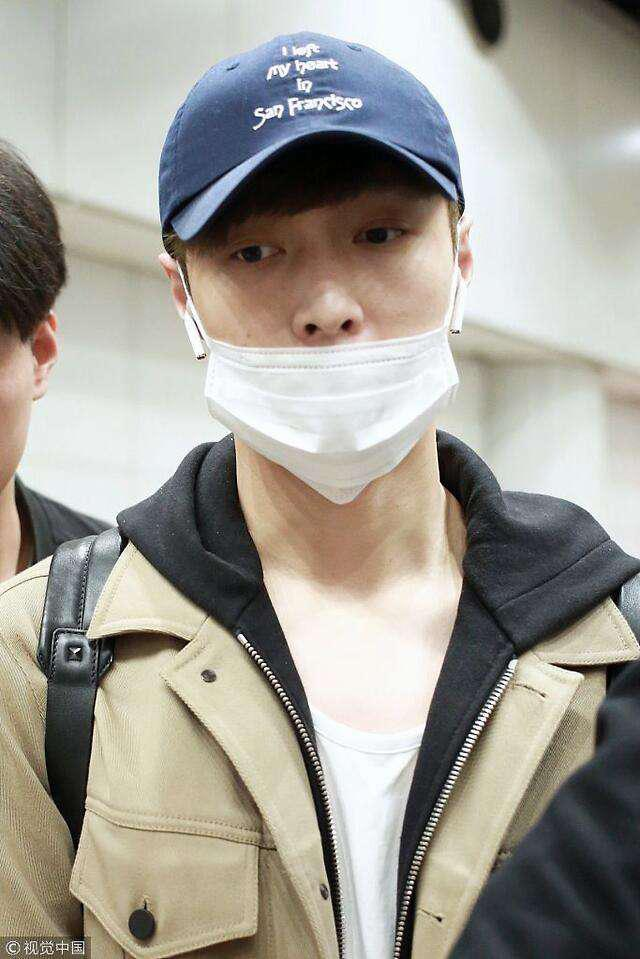WRONG: (194, 159, 459, 479)
